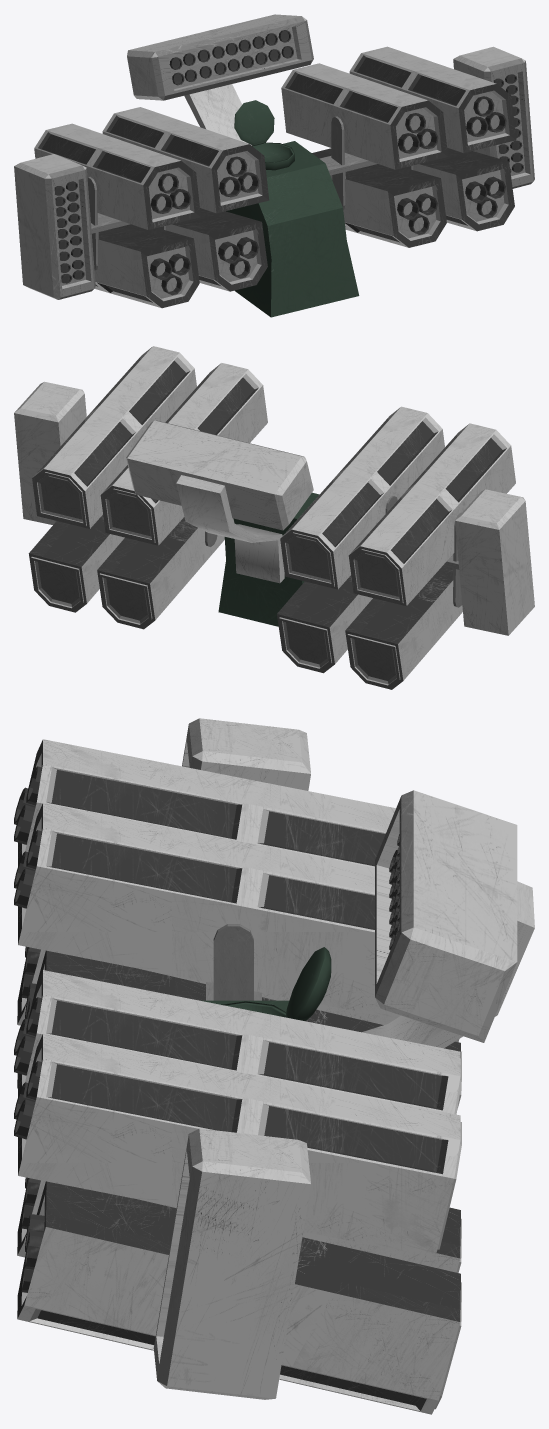
Rendered from MissileRT5.fbx.
3 renders of one model, top to bottom at view 1: azimuth 30°, elevation 25°; view 2: azimuth 150°, elevation 25°; view 3: azimuth 270°, elevation 25°, orthographic. The views are drawn at different scales.
Visible parts, largest first — view 1: pCube19; view 2: pCube19; view 3: pCube19.
Part boxes in pixels (box(x1,y1,x2,y2)): pCube19: box(14, 14, 534, 317); pCube19: box(14, 346, 534, 689); pCube19: box(14, 718, 534, 1414).
Bounding box in the file's own units: 56.81 × 23.24 × 27.62.
